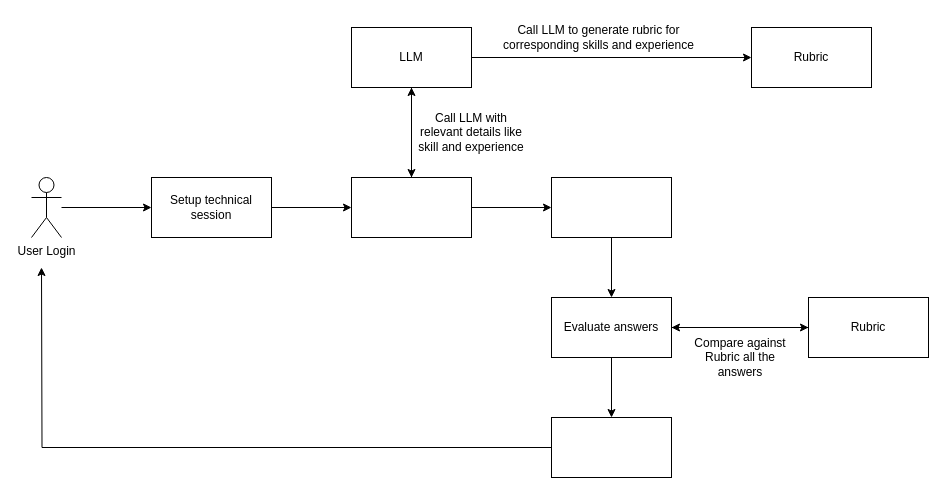
This 946x495 diagram has some shape labels left out. The centre of each missing label's shape, as x and y in pixels:
"Generate questions" goes at point (411, 207).
"Give answers for each question" goes at point (611, 207).
"Prepare final report" goes at point (611, 447).
